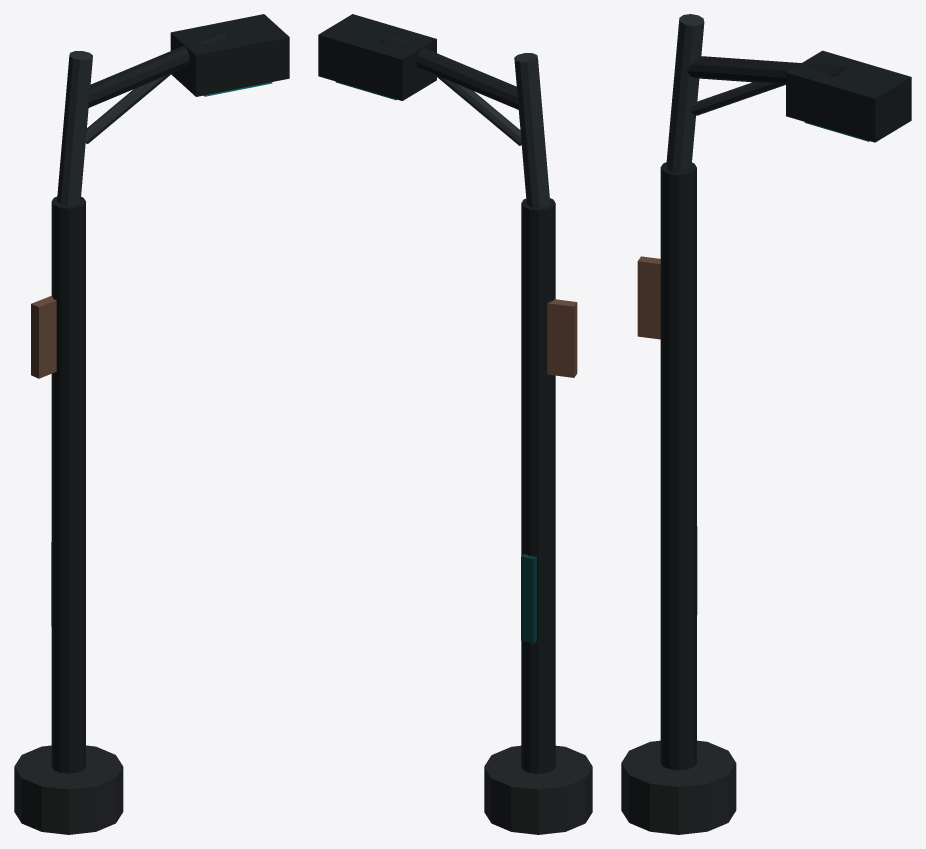
Rendered from MemoryStreetLamp_A.obj.
3 views of the same model, side by side, from view 1: azimuth 30°, elevation 25°; view 2: azimuth 150°, elevation 25°; view 3: azimuth 330°, elevation 25° (orthographic). The views are drawn at different scales.
Visible parts, largest first — view 1: Architecture, Lamp, Damage; view 2: Architecture, Lamp, Damage, CyanLights; view 3: Architecture, Lamp, Damage.
Boxes of the visible parts, x1,y1,x2,y2 form: Architecture: (14,30,227,834); Lamp: (170,14,289,96); Damage: (31,296,56,378); Architecture: (380,32,592,834); Lamp: (318,14,436,100); Damage: (547,299,577,377); CyanLights: (335,81,536,643); Architecture: (621,14,846,834); Lamp: (786,50,911,142); Damage: (637,256,660,339).
Bounding box in the file's own units: 2.06 × 5.81 × 0.76.
